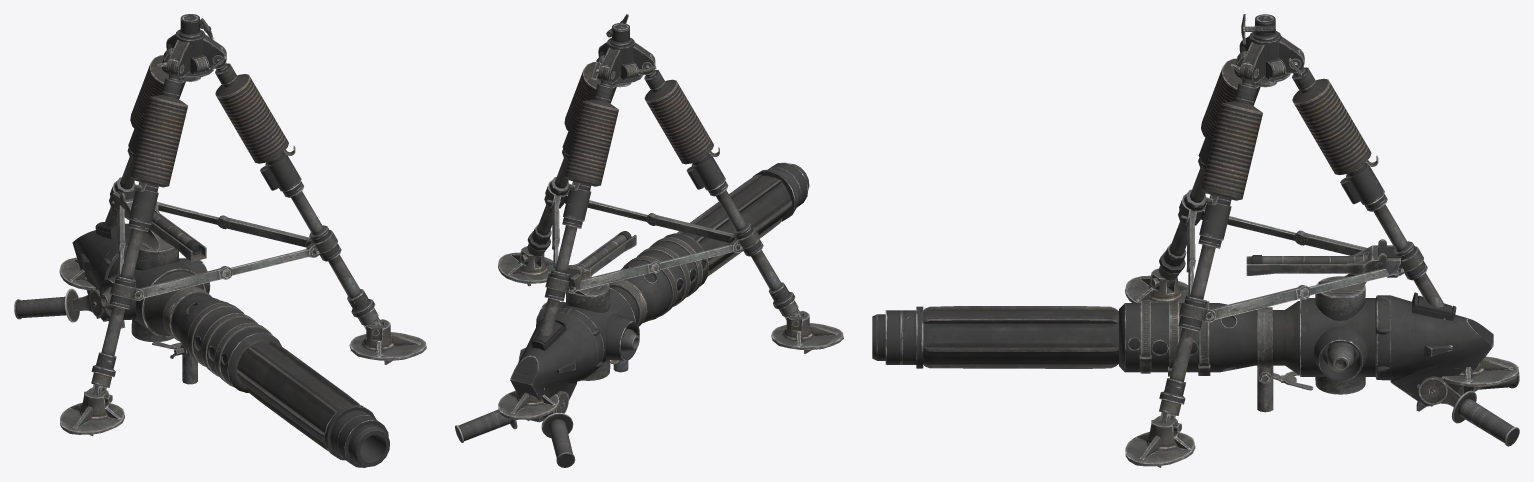
Rendered from markii.glb.
3 views of the same model, side by side, from view 1: azimuth 30°, elevation 25°; view 2: azimuth 150°, elevation 25°; view 3: azimuth 270°, elevation 25° (orthographic). The views are drawn at different scales.
Bounding box in the file's own units: 1.02 × 1.02 × 1.48.
Materials: 1 (1 with a texture image).
